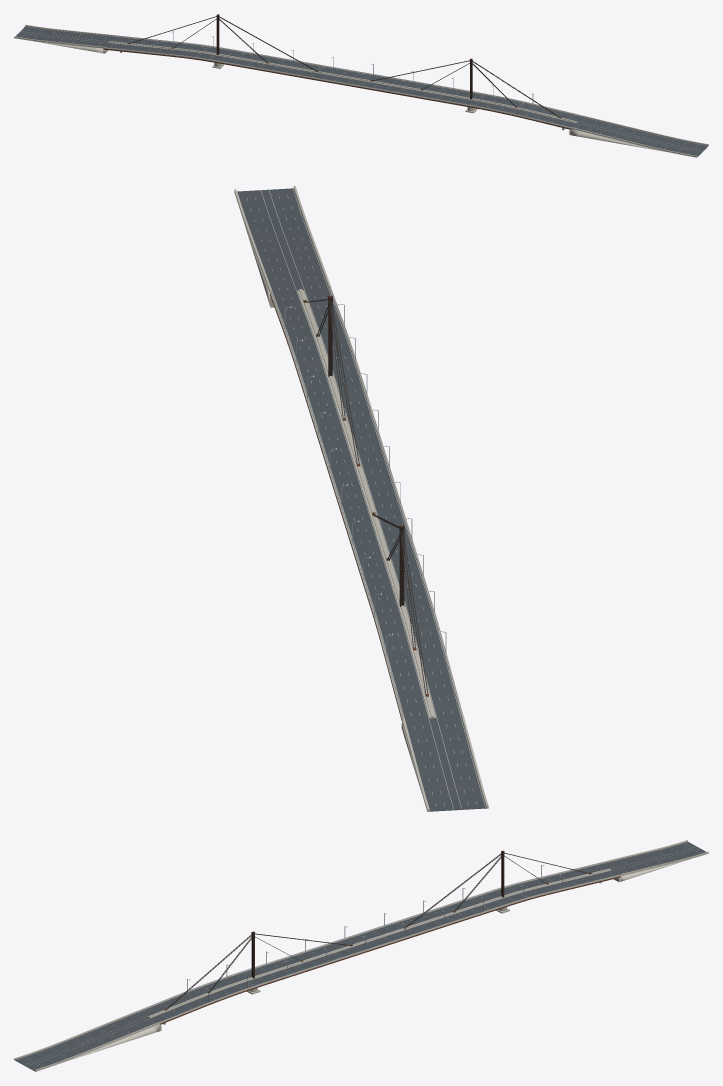
Rendered from pont-papineau-leblanc-near.glb.
3 renders of one model, top to bottom at view 1: azimuth 30°, elevation 25°; view 2: azimuth 150°, elevation 25°; view 3: azimuth 270°, elevation 25°, orthographic. The views are drawn at different scales.
Parts seen in each view (by area): view 1: pont-papineau-leblanc-2-asphalt, pont-papineau-leblanc-0-asphalt, pont-papineau-leblanc-2-concrete, pont-papineau-leblanc-1-asphalt, pont-papineau-leblanc-0-concrete, pont-papineau-leblanc-1-concrete, pont-papineau-leblanc-2-cable, pont-papineau-leblanc-0-cable, pont-papineau-leblanc-2-pole, pont-papineau-leblanc-0-pole, pont-papineau-leblanc-1-pole, pont-papineau-leblanc-0-steel (+2 smaller); view 2: pont-papineau-leblanc-0-asphalt, pont-papineau-leblanc-2-asphalt, pont-papineau-leblanc-1-asphalt, pont-papineau-leblanc-0-concrete, pont-papineau-leblanc-2-concrete, pont-papineau-leblanc-1-concrete, pont-papineau-leblanc-0-paint, pont-papineau-leblanc-2-paint; view 3: pont-papineau-leblanc-2-asphalt, pont-papineau-leblanc-0-asphalt, pont-papineau-leblanc-1-asphalt, pont-papineau-leblanc-2-concrete, pont-papineau-leblanc-0-concrete, pont-papineau-leblanc-1-concrete, pont-papineau-leblanc-2-cable, pont-papineau-leblanc-0-cable, pont-papineau-leblanc-1-pole, pont-papineau-leblanc-2-pole, pont-papineau-leblanc-0-pole.
Part boxes in pixels (x1,y1,x2,y2): pont-papineau-leblanc-2-asphalt: (414, 84, 707, 156); pont-papineau-leblanc-0-asphalt: (15, 26, 275, 68); pont-papineau-leblanc-2-concrete: (412, 83, 708, 157); pont-papineau-leblanc-1-asphalt: (266, 58, 423, 94); pont-papineau-leblanc-0-concrete: (14, 24, 276, 70); pont-papineau-leblanc-1-concrete: (264, 57, 424, 96); pont-papineau-leblanc-2-cable: (371, 60, 559, 117); pont-papineau-leblanc-0-cable: (129, 16, 317, 71); pont-papineau-leblanc-2-pole: (413, 78, 582, 127); pont-papineau-leblanc-0-pole: (103, 31, 275, 69); pont-papineau-leblanc-1-pole: (265, 50, 423, 94); pont-papineau-leblanc-0-steel: (103, 42, 318, 71); pont-papineau-leblanc-0-asphalt: (359, 557, 486, 811); pont-papineau-leblanc-2-asphalt: (237, 188, 373, 425); pont-papineau-leblanc-1-asphalt: (317, 423, 415, 560); pont-papineau-leblanc-0-concrete: (356, 556, 488, 811); pont-papineau-leblanc-2-concrete: (234, 186, 375, 425); pont-papineau-leblanc-1-concrete: (314, 421, 416, 560); pont-papineau-leblanc-0-paint: (359, 557, 485, 810); pont-papineau-leblanc-2-paint: (237, 189, 373, 425); pont-papineau-leblanc-2-asphalt: (15, 956, 313, 1071); pont-papineau-leblanc-0-asphalt: (441, 842, 706, 918); pont-papineau-leblanc-1-asphalt: (295, 908, 459, 965); pont-papineau-leblanc-2-concrete: (14, 955, 315, 1071); pont-papineau-leblanc-0-concrete: (440, 840, 708, 919); pont-papineau-leblanc-1-concrete: (294, 907, 461, 967); pont-papineau-leblanc-2-cable: (166, 933, 351, 1010); pont-papineau-leblanc-0-cable: (406, 852, 590, 927); pont-papineau-leblanc-1-pole: (295, 900, 461, 965); pont-papineau-leblanc-2-pole: (139, 951, 315, 1021); pont-papineau-leblanc-0-pole: (441, 863, 620, 918).
Size of the model in its own units: 418 by 50.85 by 533.
